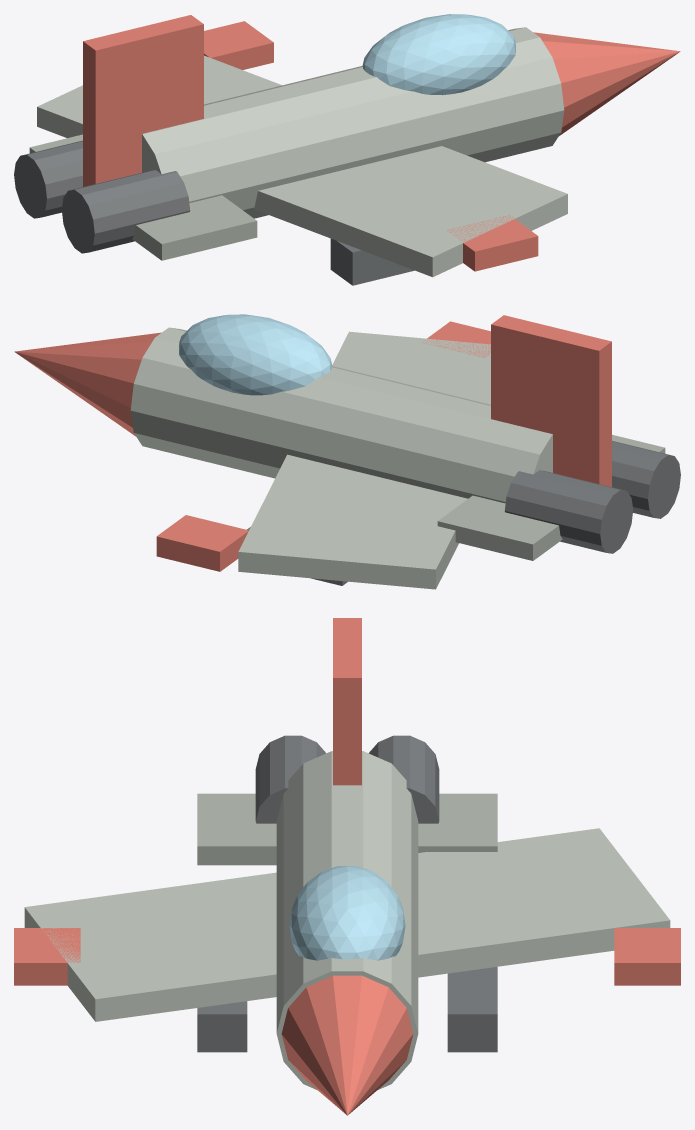
Rendered from jet_red.glb.
3 renders of one model, top to bottom at view 1: azimuth 30°, elevation 25°; view 2: azimuth 150°, elevation 25°; view 3: azimuth 270°, elevation 25°, orthographic. The views are drawn at different scales.
Visible parts, largest first — view 1: part00, part03, part06, part02, part08, part01, part07, part09, part04, part05, part10; view 2: part00, part03, part06, part02, part09, part01, part07, part08, part05, part04; view 3: part03, part00, part01, part07, part02, part06, part11, part05, part04, part08, part09, part10.
Part boxes in pixels (bbox=[...]): part00: bbox=[142, 27, 564, 218]; part03: bbox=[37, 55, 567, 277]; part06: bbox=[83, 15, 203, 186]; part02: bbox=[362, 14, 515, 95]; part08: bbox=[61, 170, 190, 253]; part01: bbox=[533, 32, 680, 135]; part07: bbox=[29, 134, 257, 260]; part09: bbox=[14, 140, 82, 218]; part04: bbox=[447, 215, 538, 271]; part05: bbox=[204, 21, 273, 69]; part10: bbox=[330, 238, 414, 285]; part00: bbox=[130, 327, 552, 503]; part03: bbox=[238, 331, 490, 589]; part06: bbox=[491, 315, 611, 487]; part02: bbox=[179, 314, 332, 395]; part09: bbox=[504, 470, 633, 553]; part01: bbox=[14, 332, 161, 436]; part07: bbox=[437, 434, 665, 560]; part08: bbox=[612, 441, 680, 518]; part05: bbox=[156, 515, 248, 571]; part04: bbox=[422, 321, 490, 358]; part03: bbox=[24, 828, 670, 1021]; part00: bbox=[276, 751, 418, 1090]; part01: bbox=[281, 975, 413, 1115]; part07: bbox=[197, 793, 497, 865]; part02: bbox=[289, 866, 405, 960]; part06: bbox=[333, 618, 361, 785]; part11: bbox=[447, 966, 497, 1052]; part05: bbox=[614, 928, 680, 985]; part04: bbox=[14, 928, 80, 985]; part08: bbox=[255, 735, 326, 823]; part09: bbox=[368, 735, 439, 823]; part10: bbox=[197, 1001, 247, 1052].
Bounding box in the file's own units: 1.97 × 0.72 × 1.6.
